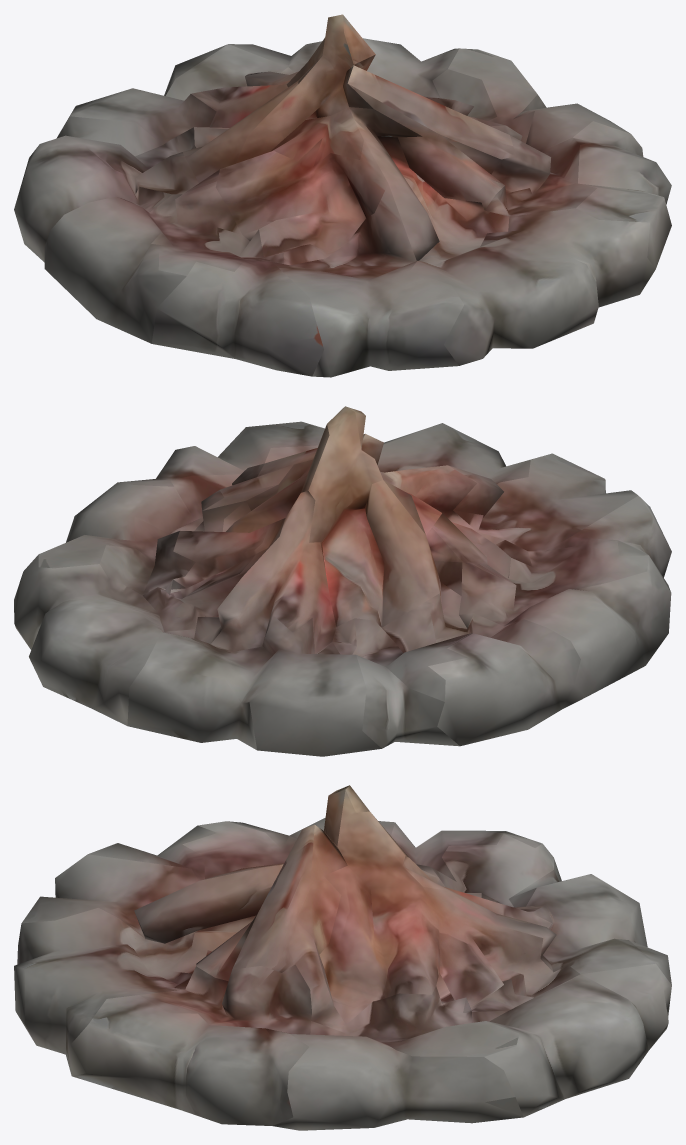
The model's file is Hearth.glb.
3 views of the same model, one above another, from view 1: azimuth 30°, elevation 25°; view 2: azimuth 150°, elevation 25°; view 3: azimuth 270°, elevation 25° (orthographic). The views are drawn at different scales.
Parts seen in each view (by area): view 1: Hearth; view 2: Hearth; view 3: Hearth.
Part boxes in pixels (x1,y1,x2,y2): Hearth: (14,14,671,377); Hearth: (14,406,671,756); Hearth: (14,785,671,1130).
Size of the model in its own units: 0.9357 by 0.353 by 0.9901.
1 material, 1 textured.
